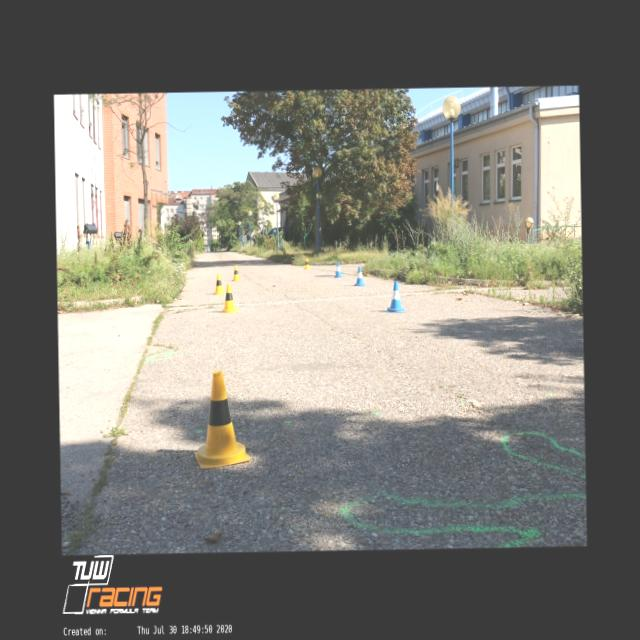blue_cone: (386, 281, 404, 311), (353, 266, 365, 286), (333, 261, 342, 277)
yellow_cone: (192, 368, 250, 468), (221, 284, 237, 312), (213, 273, 225, 294), (230, 264, 240, 280), (304, 257, 310, 269)
